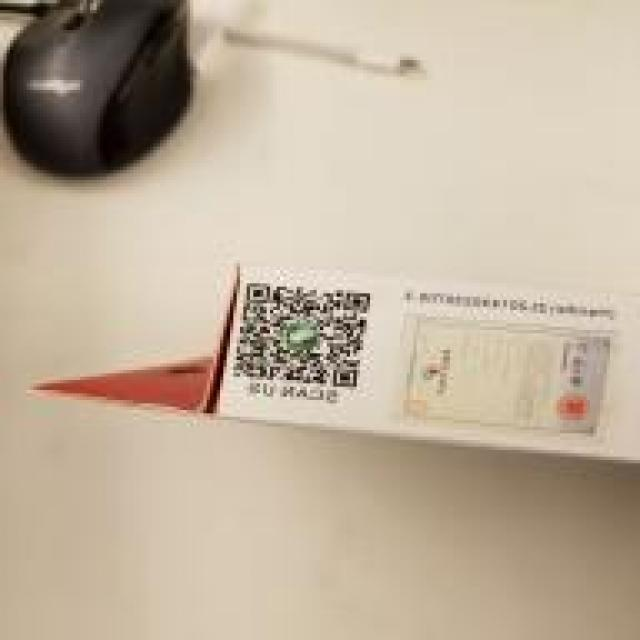QR_CODE: (218, 277, 384, 393)
